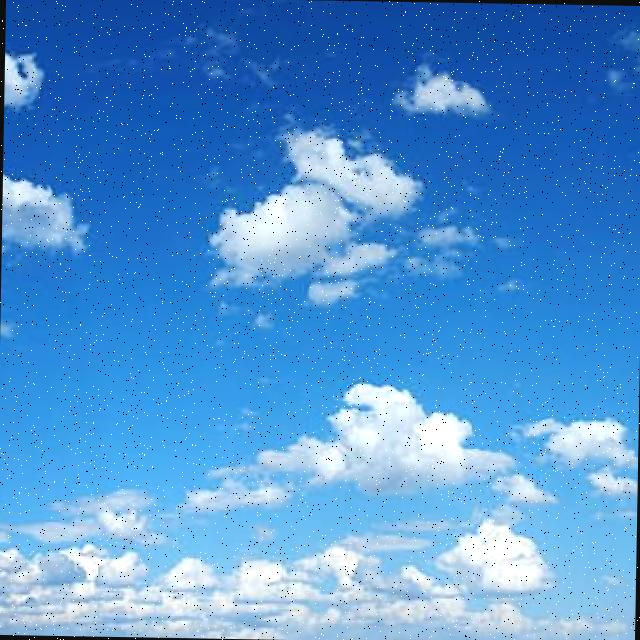Cu: (1, 1, 640, 564)
